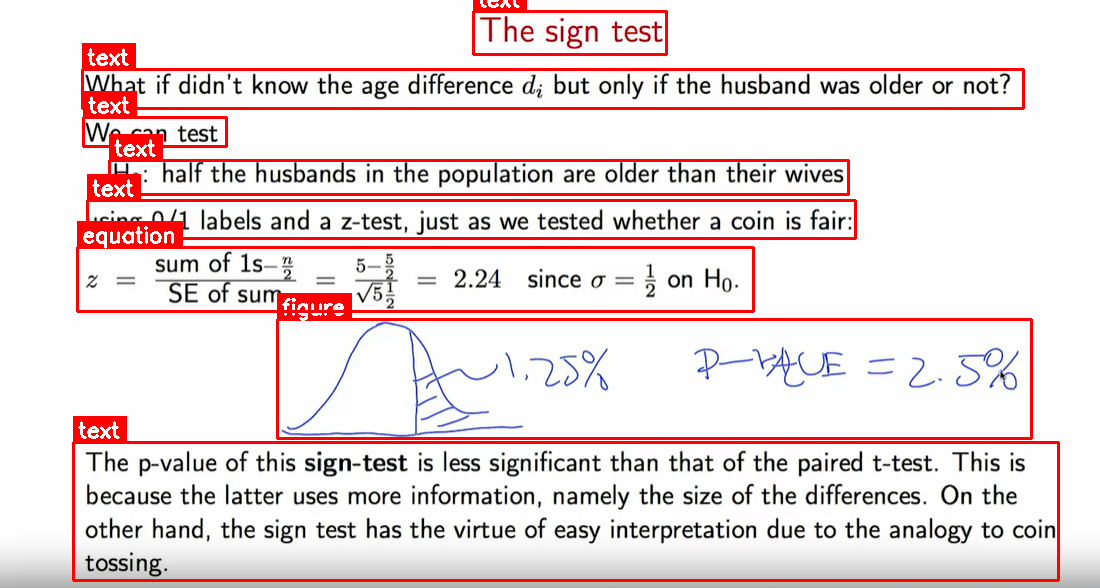equation: (77, 247, 753, 311)
figure: (277, 319, 1031, 438)
text: (73, 442, 1058, 580), (82, 69, 1023, 108), (87, 200, 855, 238), (109, 160, 848, 194), (473, 11, 666, 54), (83, 117, 226, 146)
